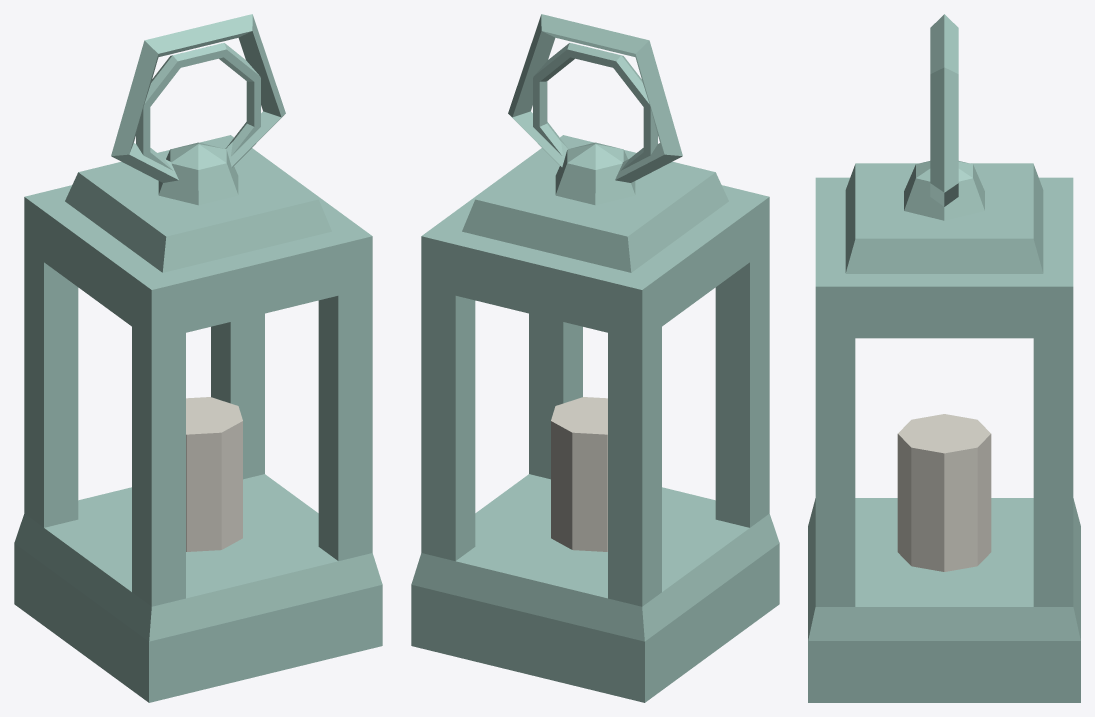
The model's file is LatternHold.fbx.
3 views of the same model, side by side, from view 1: azimuth 30°, elevation 25°; view 2: azimuth 150°, elevation 25°; view 3: azimuth 270°, elevation 25° (orthographic).
Parts seen in each view (by area): view 1: lantern, lanternCandle, handle2, handle; view 2: lantern, lanternCandle, handle2, handle; view 3: lantern, lanternCandle, handle2.
Part boxes in pixels (x1,y1,x2,y2): lantern: (14,135,382,702); lanternCandle: (186,397,242,551); handle2: (111,14,285,182); handle: (136,43,260,170); lantern: (411,135,779,702); lanternCandle: (551,397,607,551); handle2: (508,14,682,182); handle: (533,43,657,170); lantern: (808,161,1080,702); lanternCandle: (897,414,991,571); handle2: (930,14,958,206).
Bounding box in the file's own units: 0.1459 × 0.357 × 0.1459.
